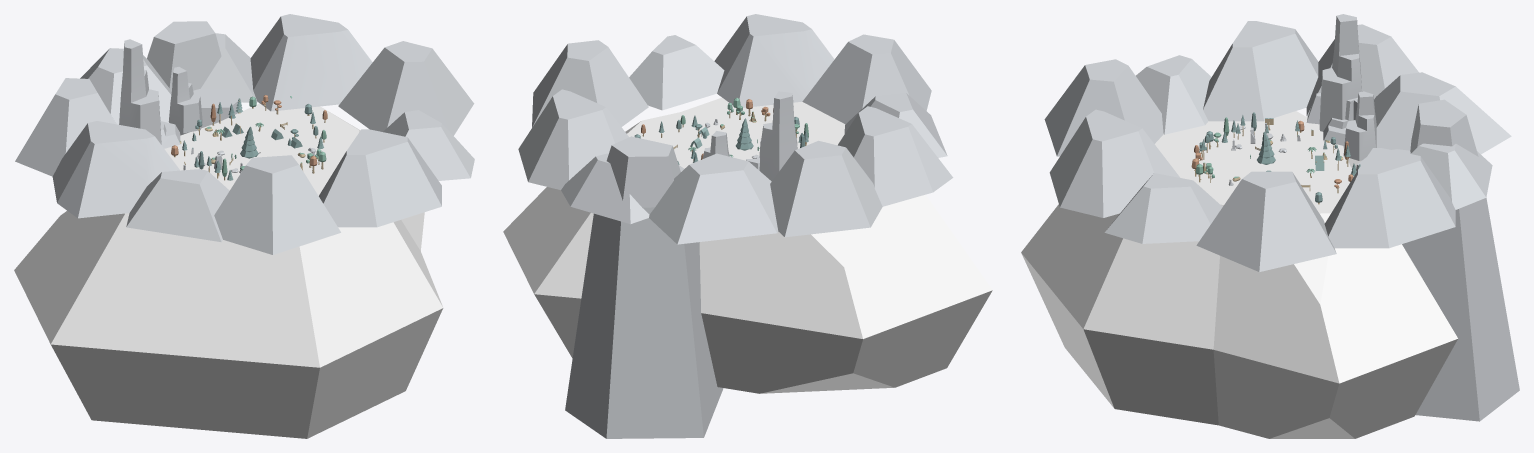
3 views of the same model, side by side, from view 1: azimuth 30°, elevation 25°; view 2: azimuth 150°, elevation 25°; view 3: azimuth 270°, elevation 25° (orthographic). The views are drawn at different scales.
Parts seen in each view (by area): view 1: Mesh1_Group1_Model (×4), Mesh1_Tall_Rock_2_Model; view 2: Mesh1_Group1_Model (×4), Mesh1_Tall_Rock_2_Model; view 3: Mesh1_Group1_Model (×4), Mesh1_Tall_Rock_2_Model.
Part boxes in pixels (x1,y1,x2,y2): Mesh1_Group1_Model (×4): (14, 14, 474, 438); Mesh1_Tall_Rock_2_Model: (168, 67, 202, 133); Mesh1_Group1_Model (×4): (503, 14, 992, 438); Mesh1_Tall_Rock_2_Model: (702, 131, 731, 158); Mesh1_Group1_Model (×4): (1021, 14, 1519, 438); Mesh1_Tall_Rock_2_Model: (1343, 91, 1376, 160).
Bounding box in the file's own units: 181 × 122 × 170.
